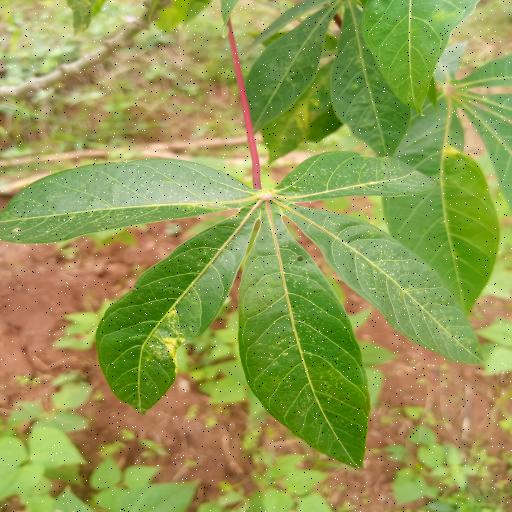Cassava_Mosaic: (4, 148, 487, 465)
